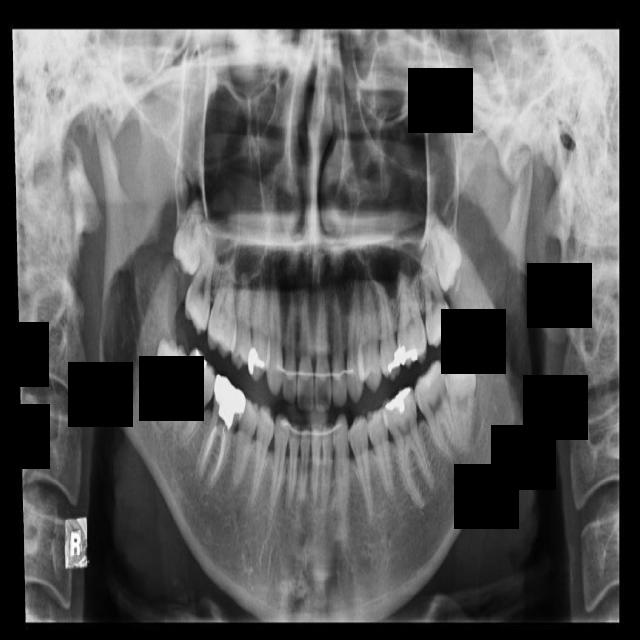3M ESPE Implant: (169, 199, 206, 277)
52: (173, 345, 229, 408), (371, 381, 430, 438), (209, 375, 249, 434), (396, 317, 427, 369), (246, 334, 272, 383), (376, 338, 404, 382), (441, 382, 451, 403)
73: (191, 414, 239, 490), (588, 578, 594, 588)
BioHorizons Implant: (417, 232, 455, 350)
BioLife Implant: (424, 211, 468, 295)
Biomet 3i Implant: (443, 359, 486, 456)
Blue Sky Bio Implant: (408, 358, 463, 466)
Caries: (181, 225, 218, 336)
Implant: (167, 347, 224, 449)
Keystone Dental Implant: (154, 337, 190, 432)
